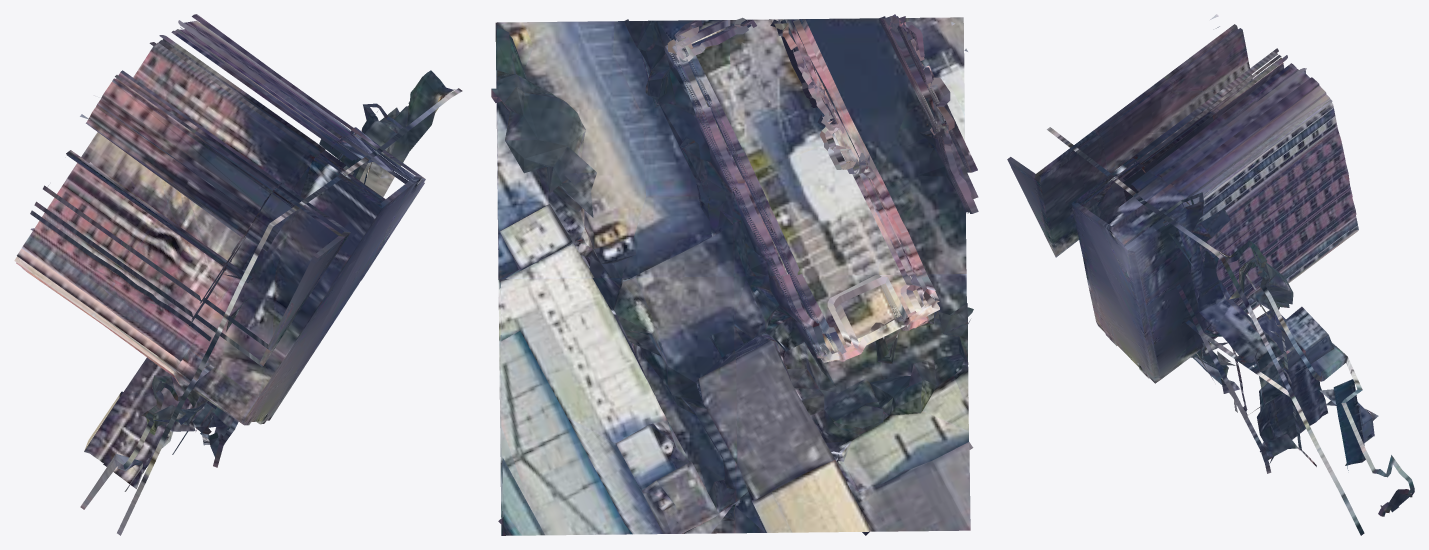
3 renders of one model, left to right at view 1: azimuth 30°, elevation 25°; view 2: azimuth 150°, elevation 25°; view 3: azimuth 270°, elevation 25°, orthographic. The views are drawn at different scales.
Bounding box in the file's own units: 87.06 × 88.06 × 81.35.
Materials: 3 (3 with a texture image).
